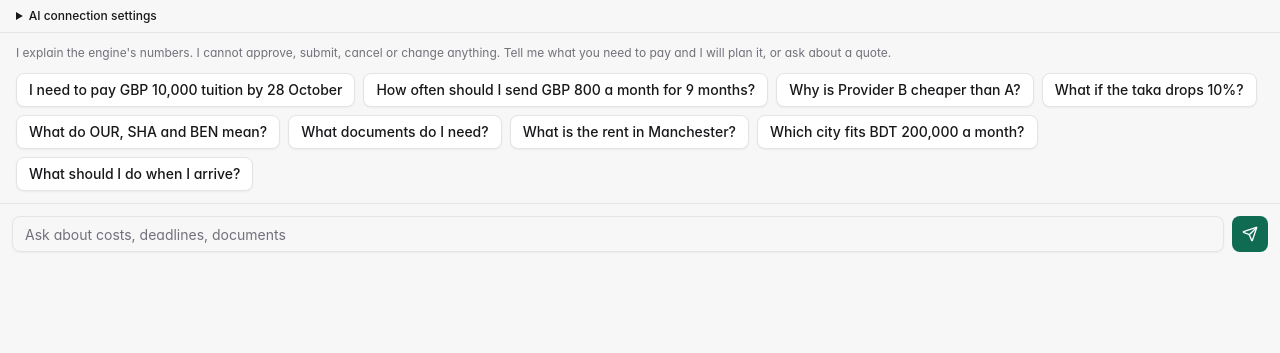
Test: assistant chat › shows the effective intent separately from a reader suggestion
Type "how do I fix it?" into the field named "Your question".
click(618, 234); type("how do I fix it?")  # box [12,216,1224,252]
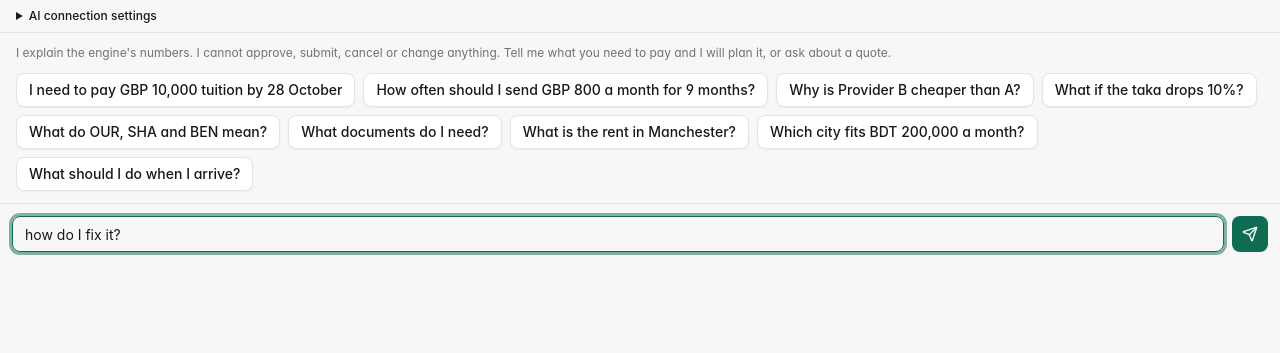
Click the button named "Send".
click(1250, 234)  # box [1232,216,1268,252]
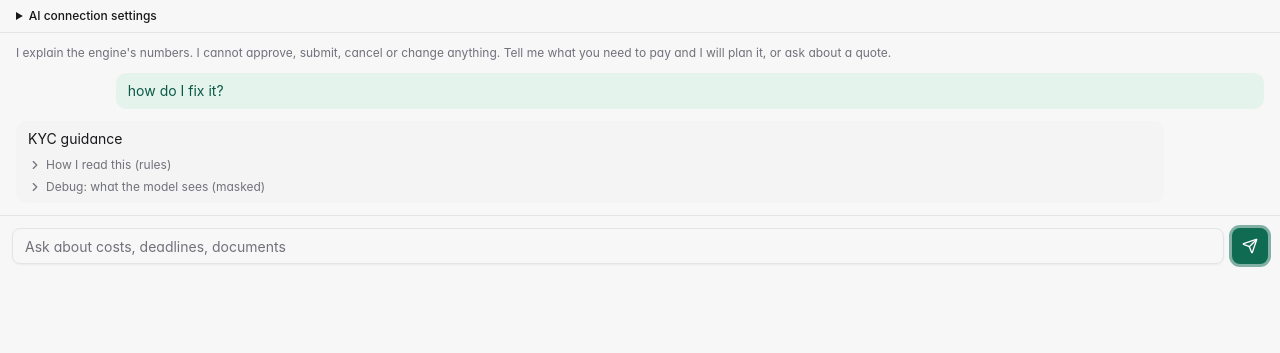
Click the button "How I read this (rules)".
click(100, 165)  # box [28,157,171,173]
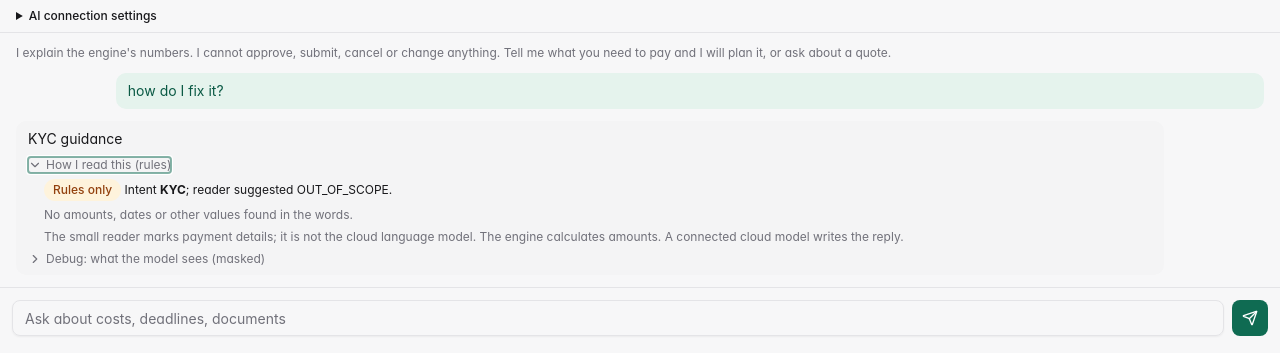
Now the text "KYC" is shown, box [160,182,186,197]
Now the text "Rules only Intent KYC; reader suggested OUT_OF_SCOPE." is shown, box [44,179,392,201]
